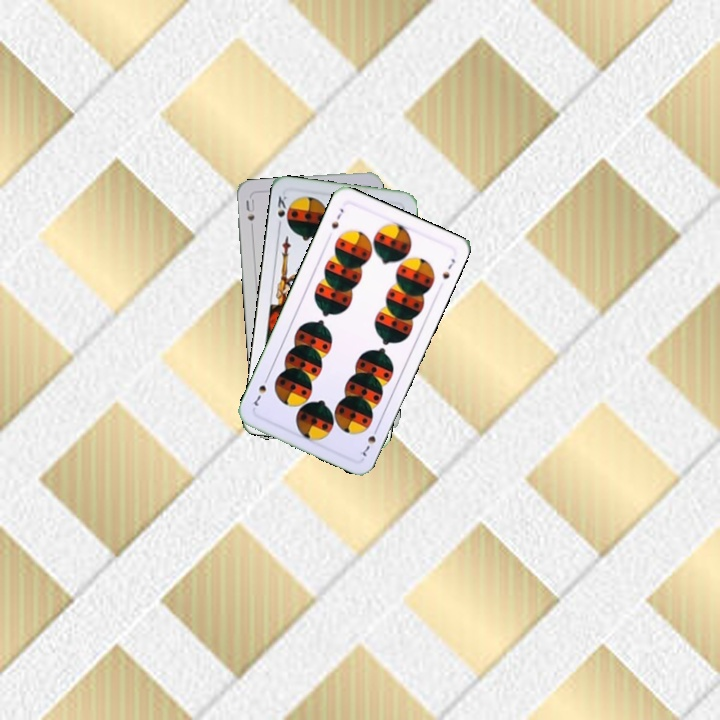S7: (355, 422, 381, 459), (327, 204, 346, 231)
SK: (273, 190, 292, 231)
SU: (242, 195, 257, 223)
